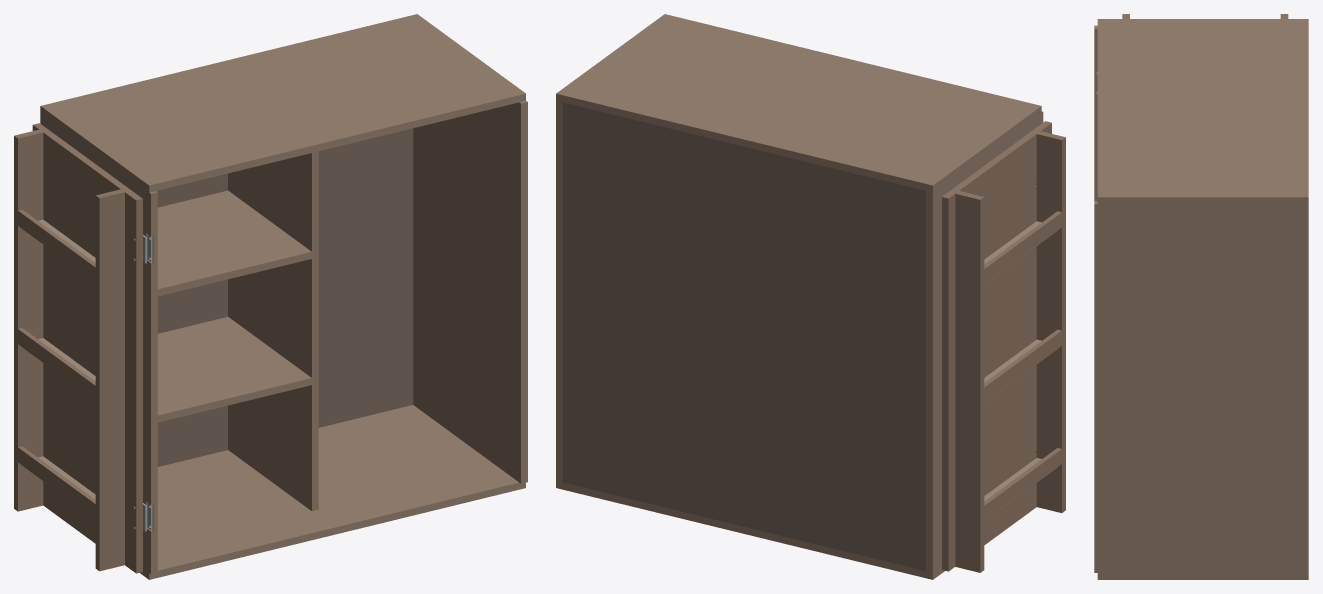
Rendered from open-270.glb.
3 renders of one model, left to right at view 1: azimuth 30°, elevation 25°; view 2: azimuth 150°, elevation 25°; view 3: azimuth 270°, elevation 25°, orthographic. The views are drawn at different scales.
Parts seen in each view (by area): view 1: Top-18, Opposite-side-18, Back-12, Bottom-18, Door-face-18, Center-18, Door-inner-hinge-18, Left-shelf-1-18, Left-shelf-2-18, Door-inner-meeting-18, Side-18-rebated, Door-lip-1-12 (+2 smaller); view 2: Back-12, Top-18, Door-face-18, Door-inner-meeting-18, Door-inner-hinge-18, Side-18-rebated, Bottom-18, Opposite-side-18, Door-lip-3-12, Door-lip-1-12, Door-lip-2-12; view 3: Opposite-side-18, Top-18, Bottom-18, Side-18-rebated.
Boxes of the visible parts, x1,y1,x2,y2 form: Top-18: (40, 14, 525, 192); Opposite-side-18: (413, 101, 527, 483); Back-12: (156, 128, 413, 466); Bottom-18: (139, 405, 525, 579); Door-face-18: (32, 123, 142, 573); Center-18: (228, 151, 318, 511); Door-inner-hinge-18: (95, 189, 124, 571); Left-shelf-1-18: (157, 317, 311, 422); Left-shelf-2-18: (157, 190, 311, 296); Door-inner-meeting-18: (14, 129, 43, 511); Side-18-rebated: (40, 113, 157, 573); Door-lip-1-12: (18, 446, 95, 518); Back-12: (563, 102, 925, 570); Top-18: (556, 14, 1041, 192); Door-face-18: (942, 121, 1051, 571); Door-inner-meeting-18: (955, 191, 984, 572); Door-inner-hinge-18: (1036, 131, 1065, 512); Side-18-rebated: (926, 111, 1043, 572); Bottom-18: (556, 481, 944, 579); Opposite-side-18: (556, 101, 562, 482); Door-lip-3-12: (984, 211, 1061, 283); Door-lip-1-12: (984, 448, 1061, 520); Door-lip-2-12: (984, 329, 1061, 401); Opposite-side-18: (1094, 201, 1308, 572); Top-18: (1097, 19, 1308, 204); Bottom-18: (1097, 573, 1308, 579); Side-18-rebated: (1094, 25, 1097, 200).
Size of the model in its own units: 1.1 by 1 by 0.508.
